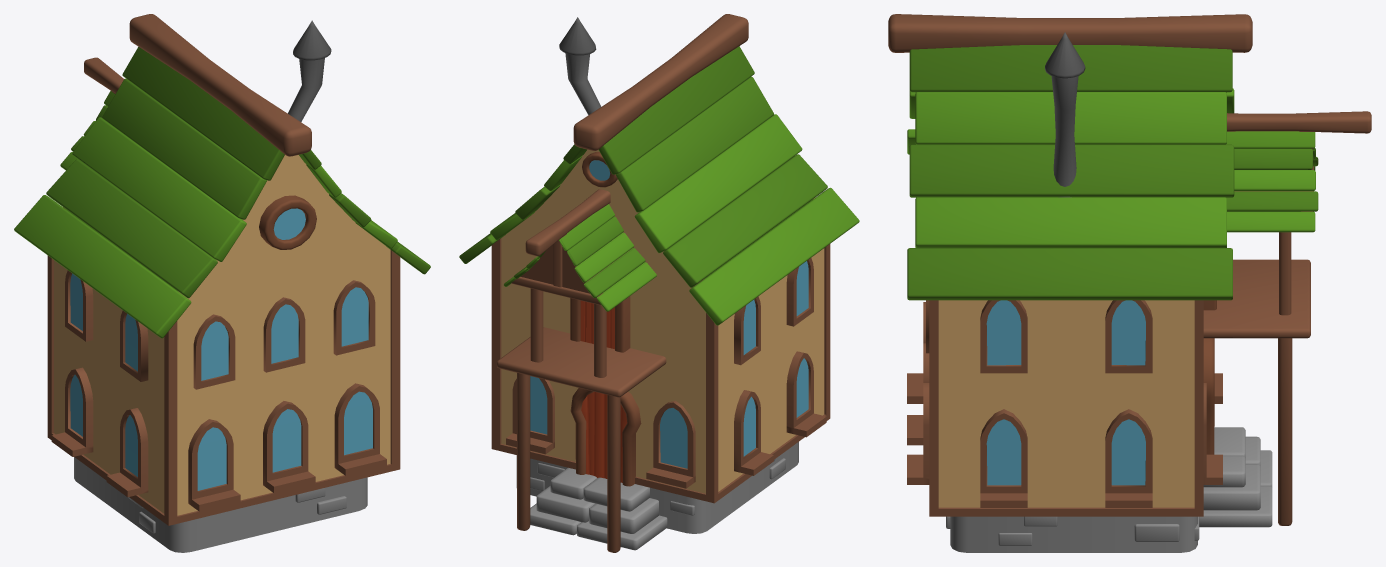
File: Building1.fbx
The picture shows the model from 3 angles, left to right: view 1: azimuth 30°, elevation 25°; view 2: azimuth 150°, elevation 25°; view 3: azimuth 270°, elevation 25°; orthographic projection. The views are drawn at different scales.
Parts seen in each view (by area): view 1: Cube.017; view 2: Cube.017; view 3: Cube.017.
Part boxes in pixels (x1=…): Cube.017: x1=14, y1=14, x2=430, y2=552; Cube.017: x1=459, y1=14, x2=859, y2=552; Cube.017: x1=888, y1=14, x2=1371, y2=552.
Size of the model in its own units: 9.48 by 12.68 by 14.91.
